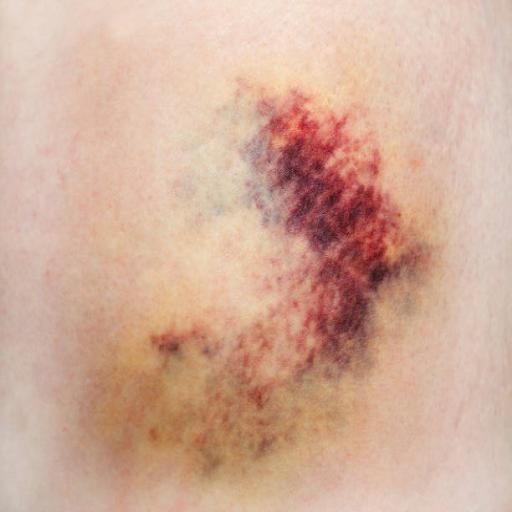bruises: (240, 82, 446, 444)
